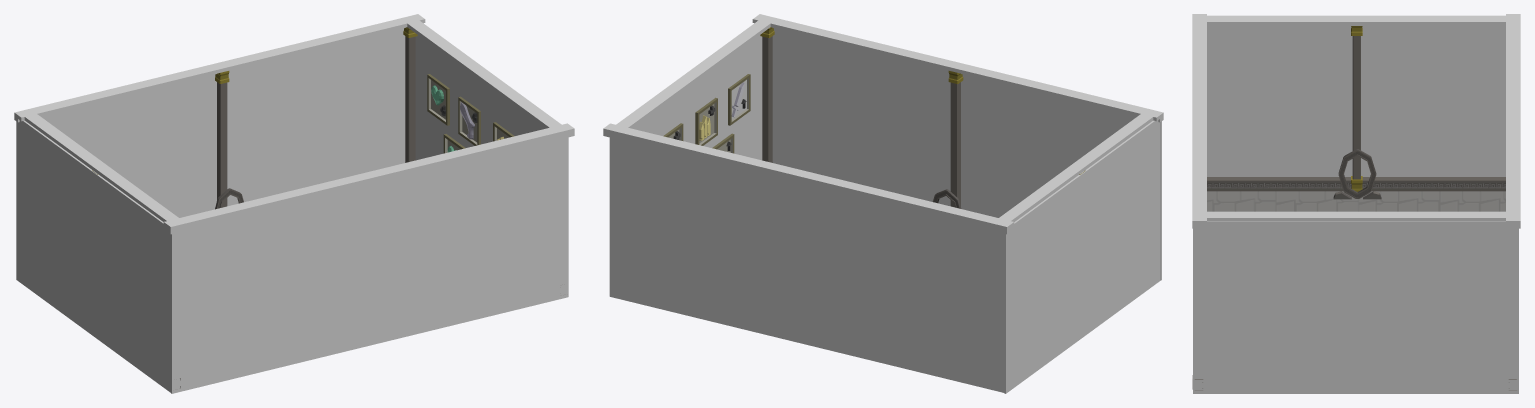
Rendered from shop01.fbx.
3 renders of one model, left to right at view 1: azimuth 30°, elevation 25°; view 2: azimuth 150°, elevation 25°; view 3: azimuth 270°, elevation 25°, orthographic. The views are drawn at different scales.
Parts seen in each view (by area): view 1: 004, Box082, Object093, hp+, speed+; view 2: 004, Box082, Object093, gun+, damageup; view 3: 004, Box082, 005, Object094, Object093, Object096.
Part boxes in pixels (x1,y1,x2,y2): 004: (16, 28, 568, 393); Box082: (14, 14, 574, 234); Object093: (92, 27, 417, 207); hp+: (427, 74, 449, 125); speed+: (458, 96, 480, 145); 004: (609, 28, 1161, 393); Box082: (603, 14, 1163, 234); Object093: (760, 27, 1085, 207); gun+: (695, 97, 717, 145); damageup: (728, 74, 750, 125); 004: (1193, 26, 1518, 393); Box082: (1192, 14, 1520, 228); 005: (1207, 191, 1505, 211); Object094: (1192, 177, 1516, 390); Object093: (1351, 26, 1362, 191); Object096: (1333, 149, 1381, 199).
Bounding box in the file's own units: 3117 × 1235 × 2092.
